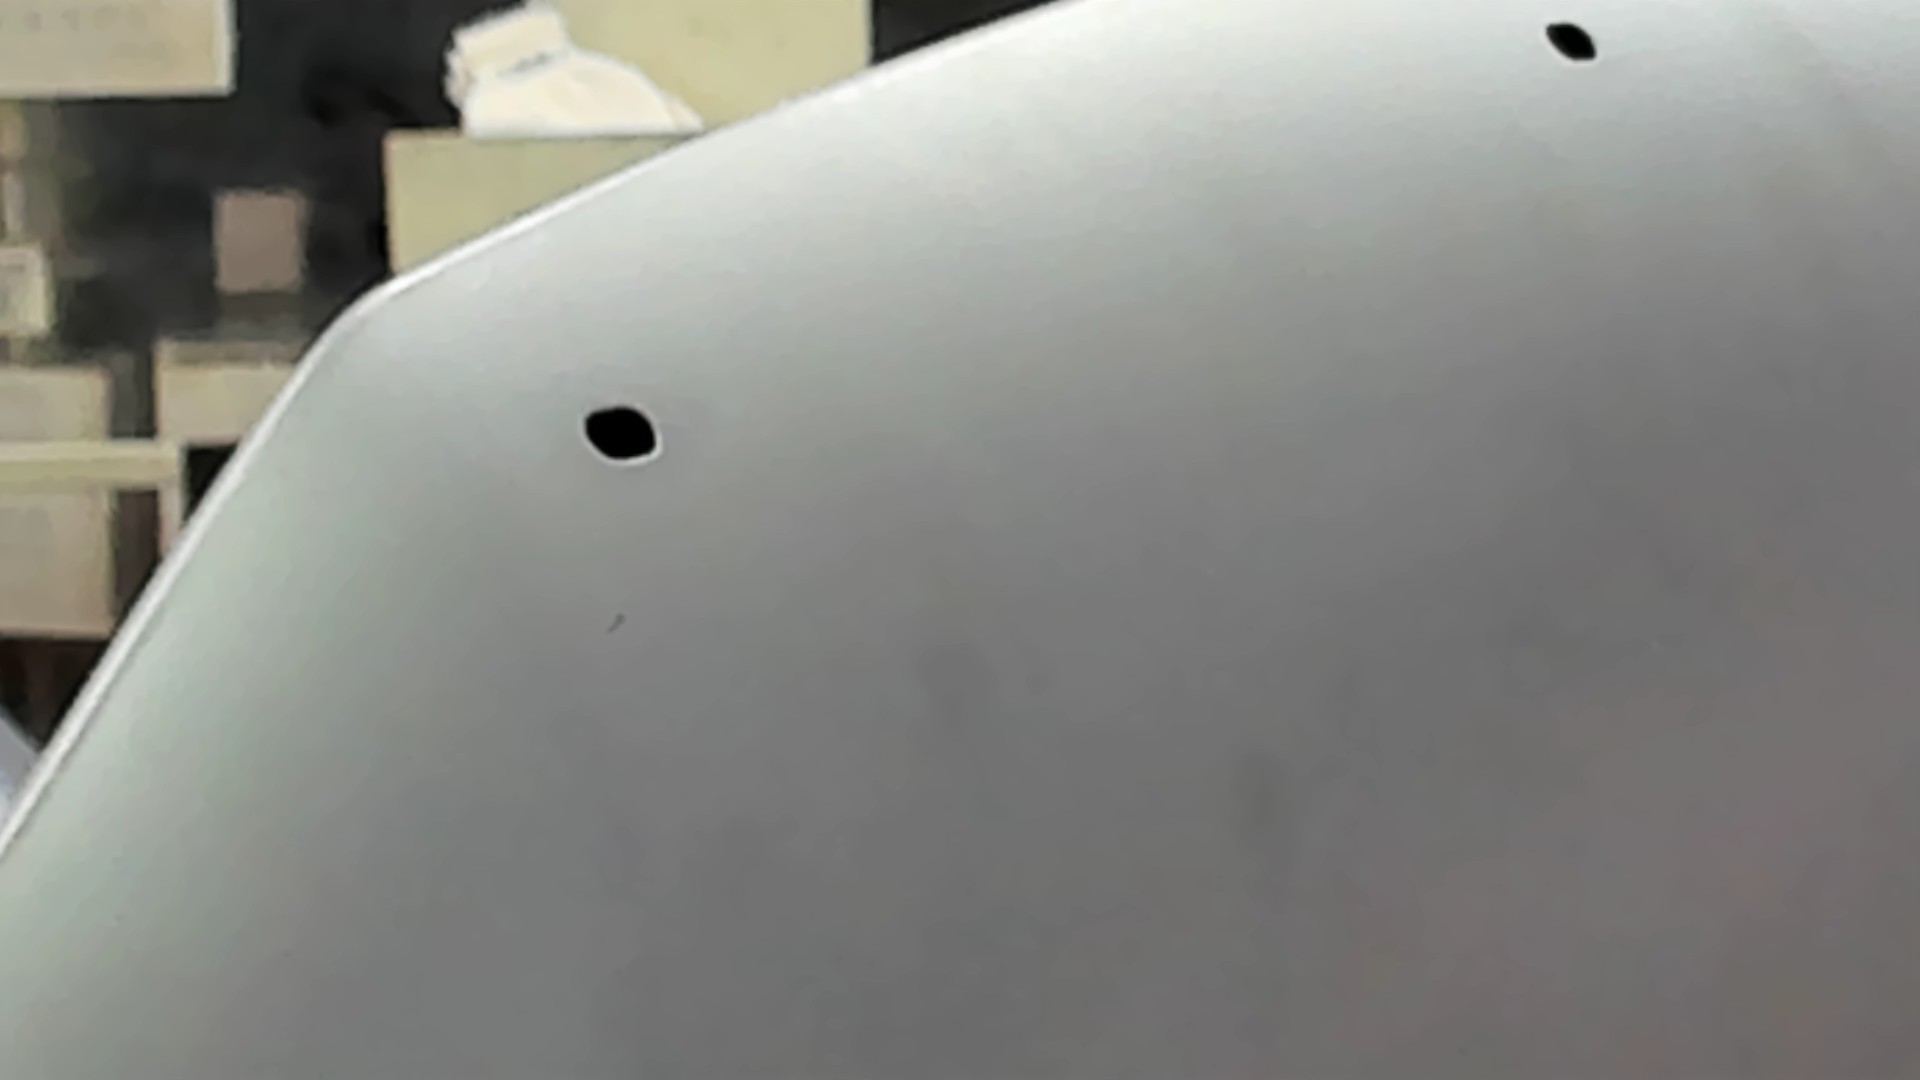amorfo: (571, 404, 665, 467), (1538, 18, 1605, 65)
